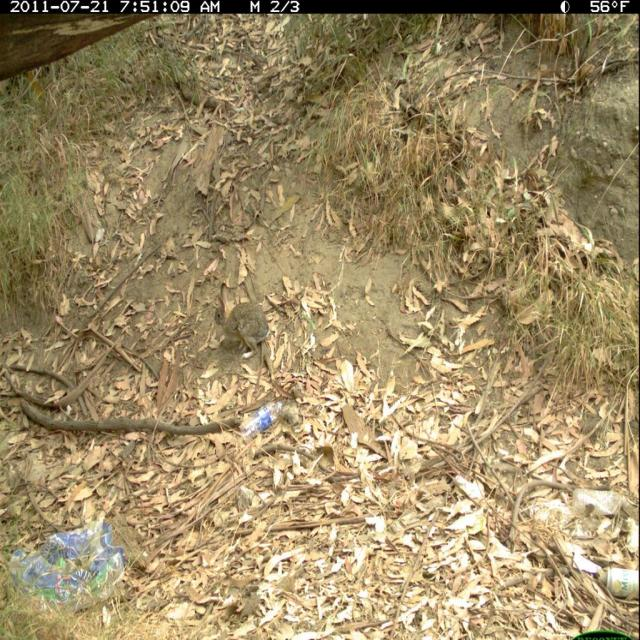rabbit: (213, 277, 281, 365)
